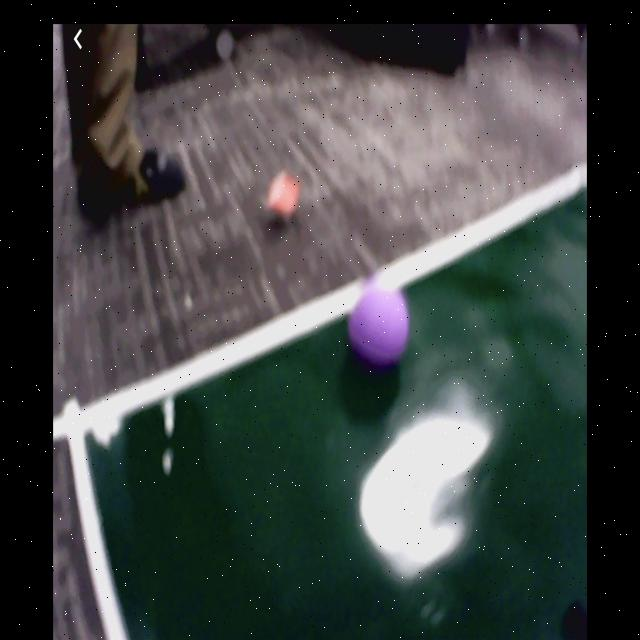ball: (352, 286, 408, 365)
